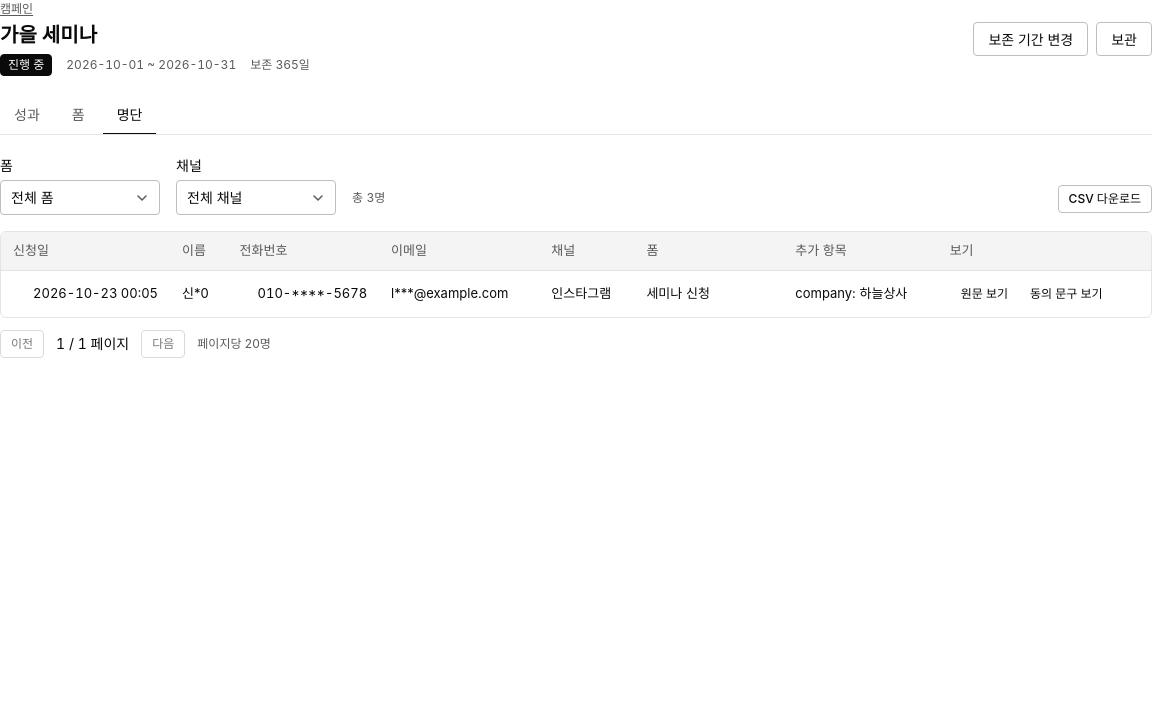
it: 명단 CSV 다운로드 › 원문 다운로드가 실패하면 대화상자에 오류를 보여주고 닫지 않는다
Check: the text "신*0" is shown, box [170, 270, 228, 316]
Step 1. Click the button "CSV 다운로드" → (1105, 199), box [1058, 185, 1151, 213]
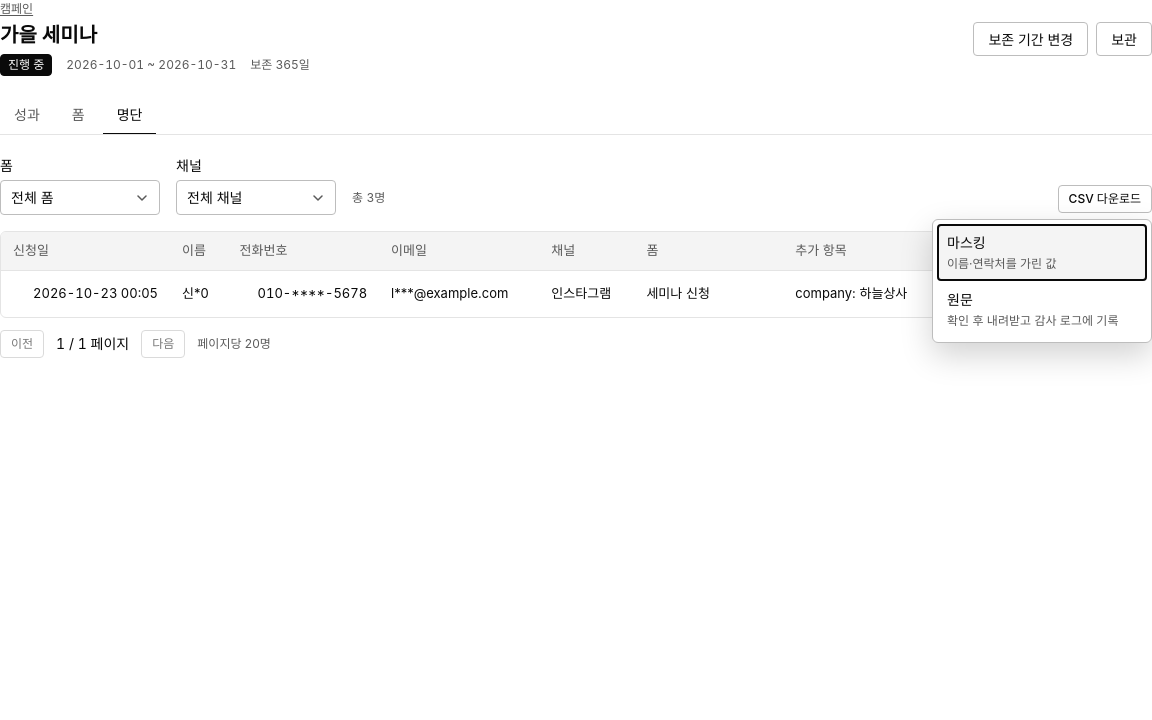
Step 2. Click the menu item "원문 확인 후 내려받고 감사 로그에 기록" → (1042, 310), box [937, 281, 1147, 338]
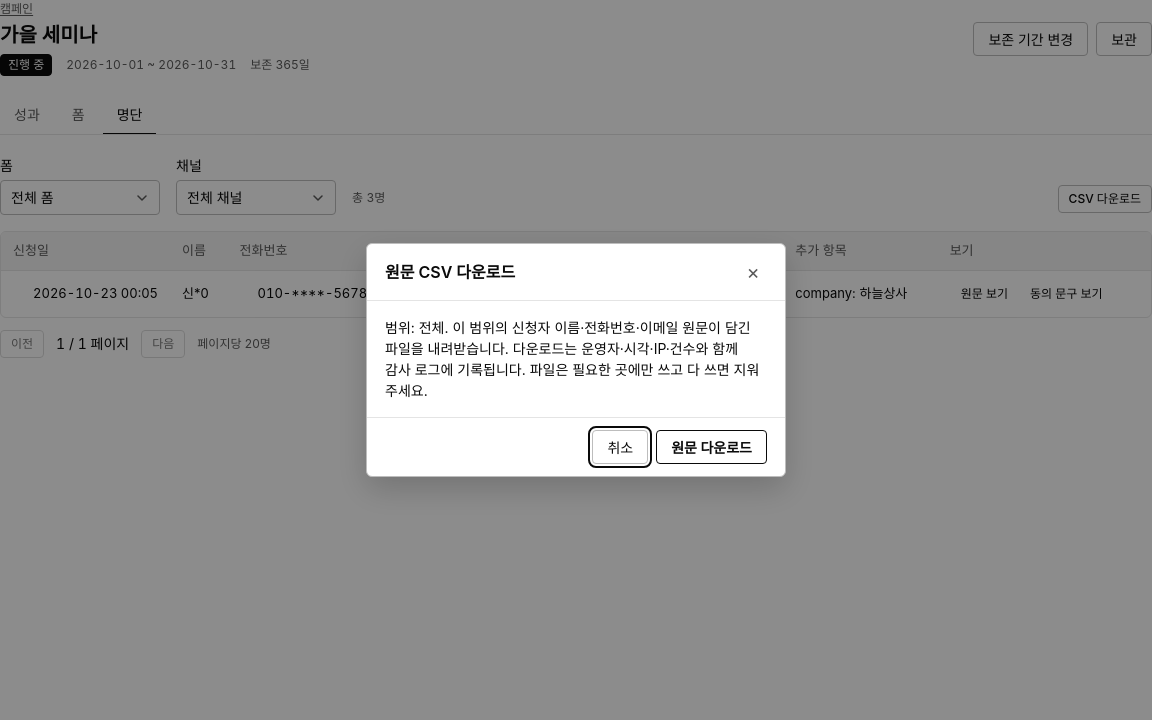
Step 3. Click the button "원문 다운로드" → (712, 447), box [656, 430, 767, 464]
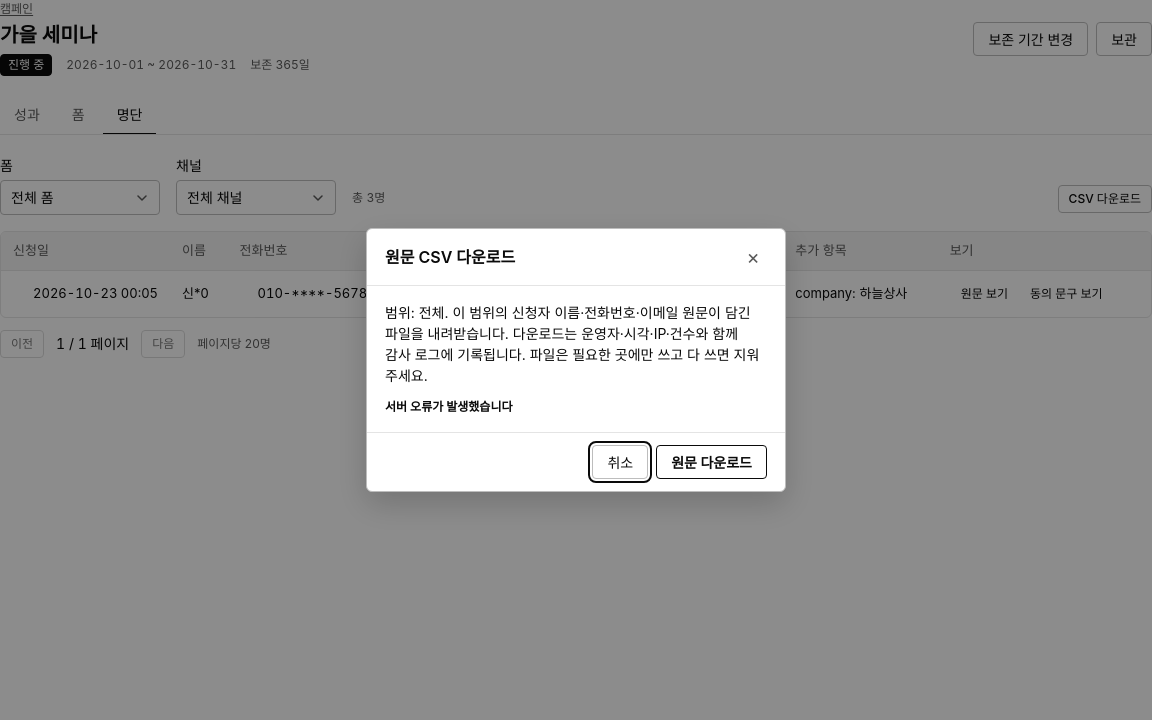
Check: the message reads "서버 오류가 발생했습니다", box [385, 399, 512, 414]
